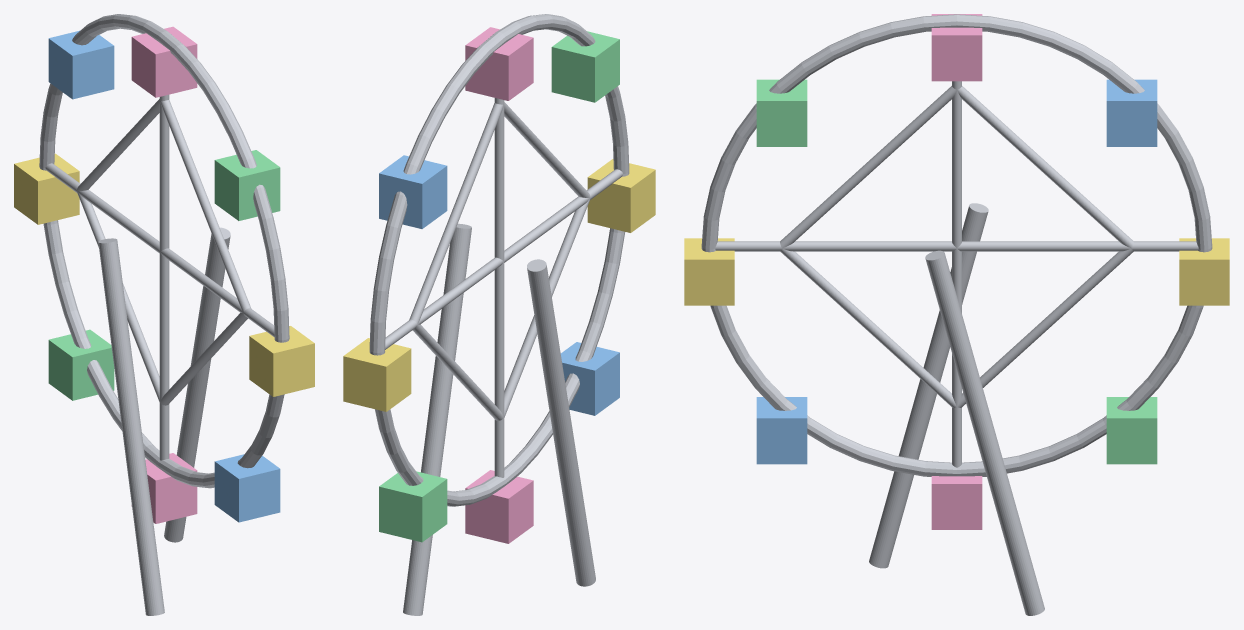
The model's file is lp_riesenrad.glb.
The picture shows the model from 3 angles, left to right: view 1: azimuth 30°, elevation 25°; view 2: azimuth 150°, elevation 25°; view 3: azimuth 270°, elevation 25°; orthographic projection. The views are drawn at different scales.
Visible parts, largest first — view 1: Wheel, Cylinder, Cylinder.001; view 2: Wheel, Cylinder, Cylinder.001; view 3: Wheel, Cylinder.001, Cylinder.
Boxes of the visible parts, bbox=[...] form: Wheel: bbox=[14, 14, 314, 523]; Cylinder: bbox=[98, 238, 164, 615]; Cylinder.001: bbox=[164, 227, 230, 542]; Wheel: bbox=[343, 14, 655, 543]; Cylinder: bbox=[527, 259, 595, 586]; Cylinder.001: bbox=[403, 223, 471, 615]; Wheel: bbox=[684, 14, 1229, 529]; Cylinder.001: bbox=[925, 250, 1044, 615]; Cylinder: bbox=[869, 203, 988, 568].
Bounding box in the file's own units: 1.18 × 5.64 × 4.85.
